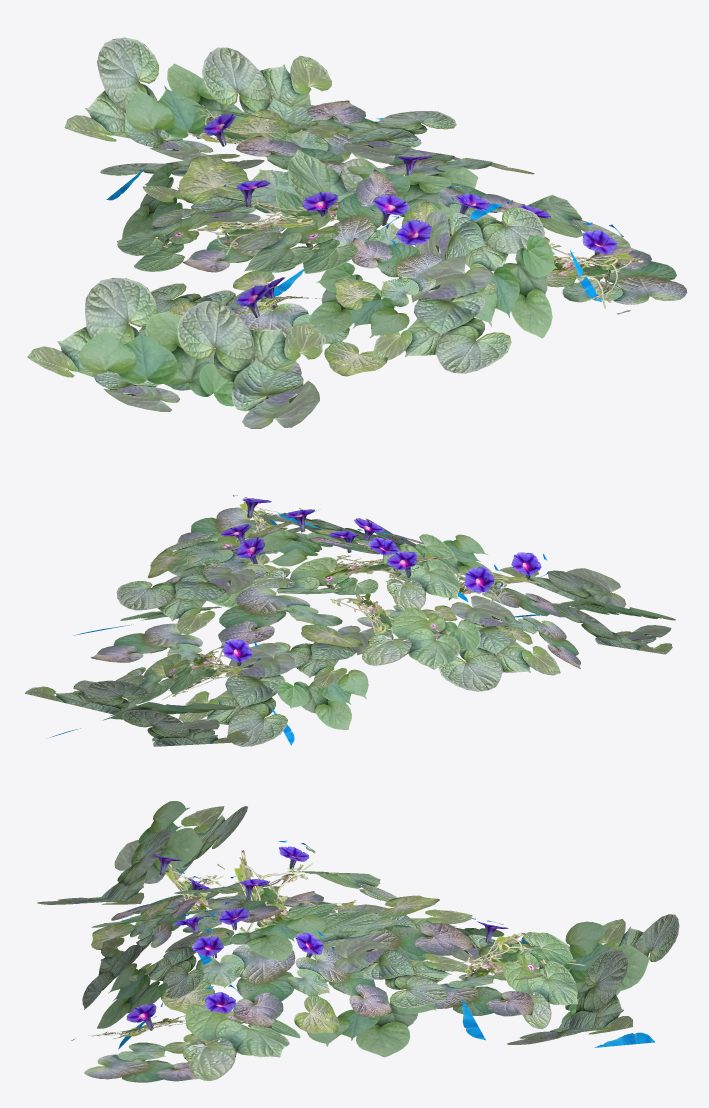
Rendered from MorningGlory2Bbloomer.fbx.
3 views of the same model, one above another, from view 1: azimuth 30°, elevation 25°; view 2: azimuth 150°, elevation 25°; view 3: azimuth 270°, elevation 25° (orthographic). The views are drawn at different scales.
Parts seen in each view (by area): view 1: MorningGlory2Bbloomer; view 2: MorningGlory2Bbloomer; view 3: MorningGlory2Bbloomer.
Boxes of the visible parts, x1,y1,x2,y2 form: MorningGlory2Bbloomer: (27, 37, 687, 428); MorningGlory2Bbloomer: (25, 495, 675, 746); MorningGlory2Bbloomer: (37, 801, 679, 1082).
Bounding box in the file's own units: 145 × 31.91 × 153.
